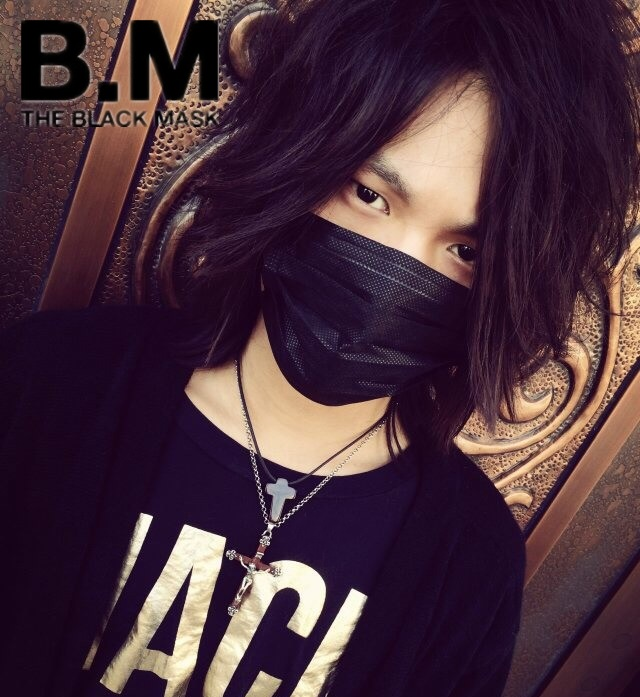face_mask: (288, 73, 517, 406)
